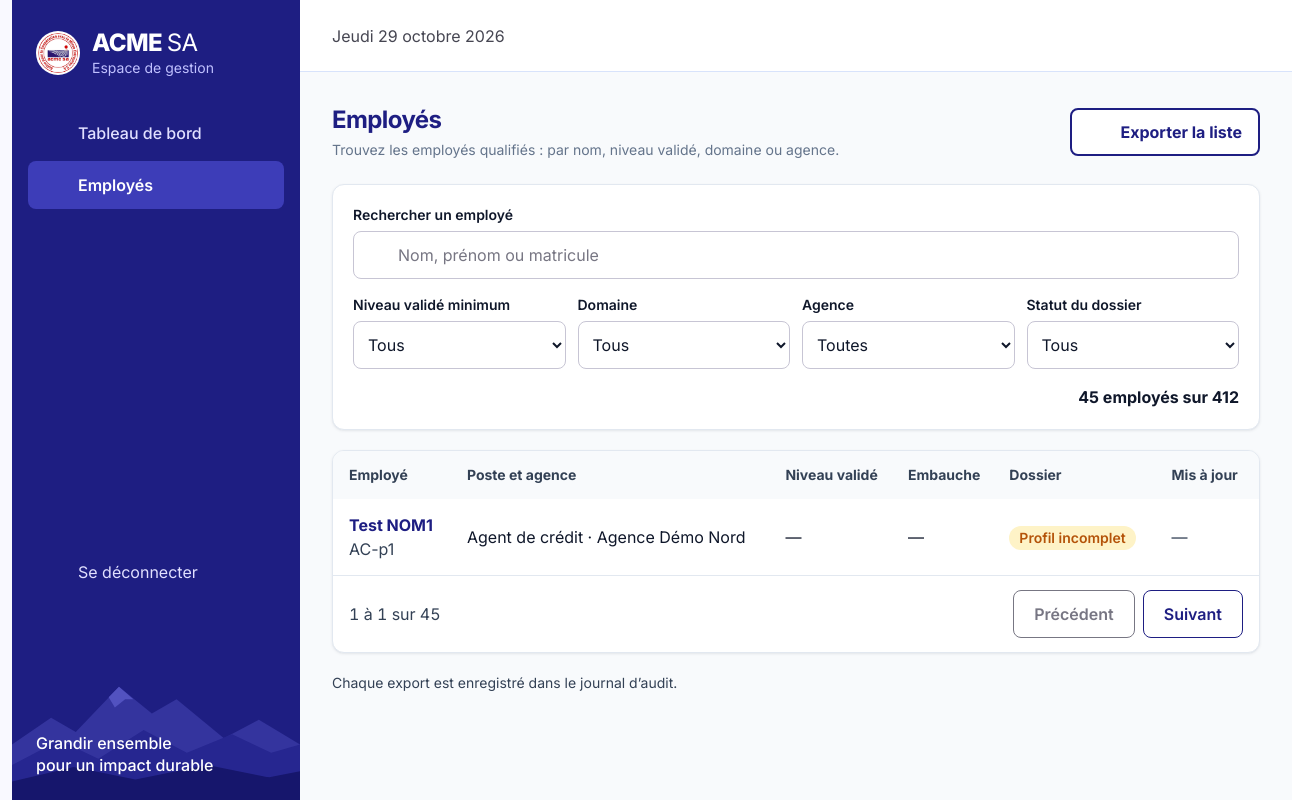
Test: US-134 CA-06 — pagination › « 1 à 20 sur 45 », « Précédent » désactivé en page 1, « Suivant » charge la page 2
Expected: the text "1 à 1 sur 45" is shown, [349,602,441,626]
Expected: the button "Précédent" is disabled, [1013,590,1135,638]
Click the button "Suivant": (1193, 614) [1143,590,1243,638]
(page scrolled)
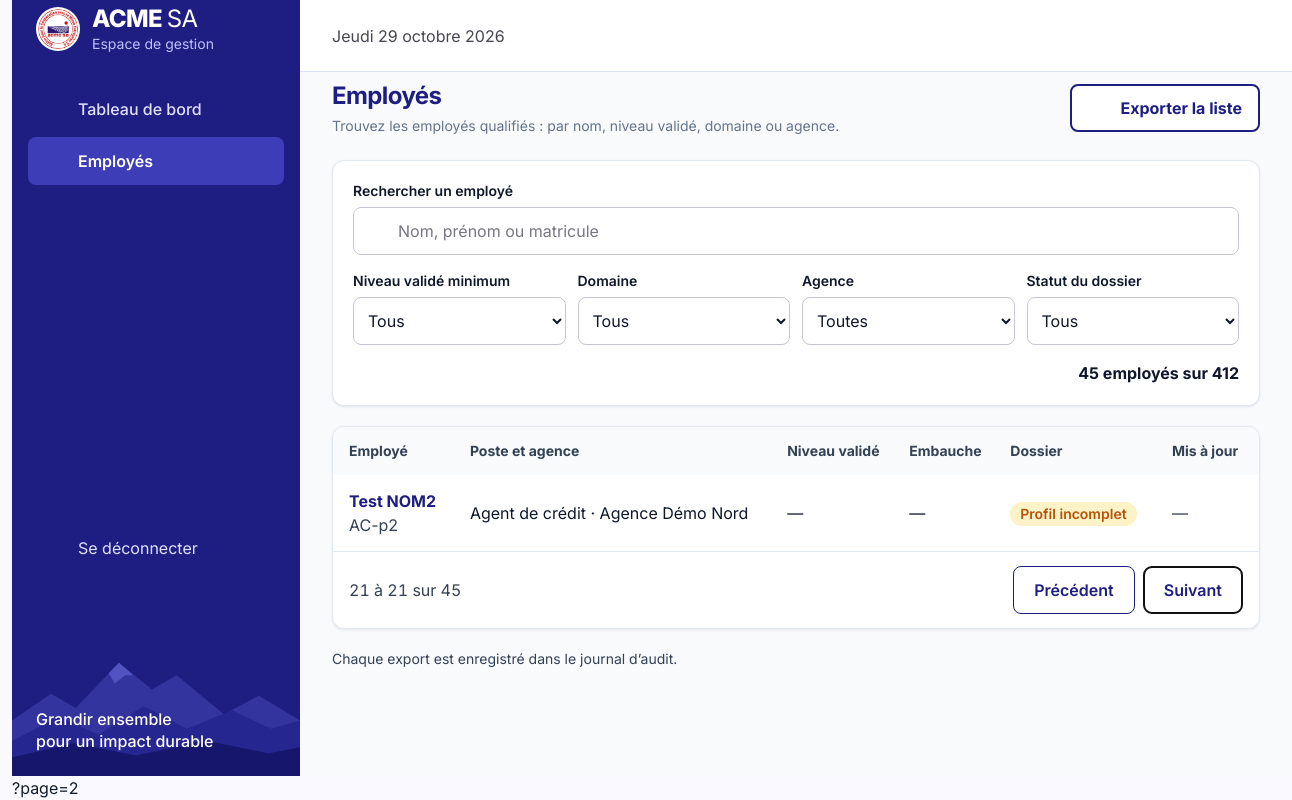
Expected: the text "21 à 21 sur 45" is shown, [349,578,461,602]
Expected: the text named "adresse" reads "?page=2", [12,778,79,798]
